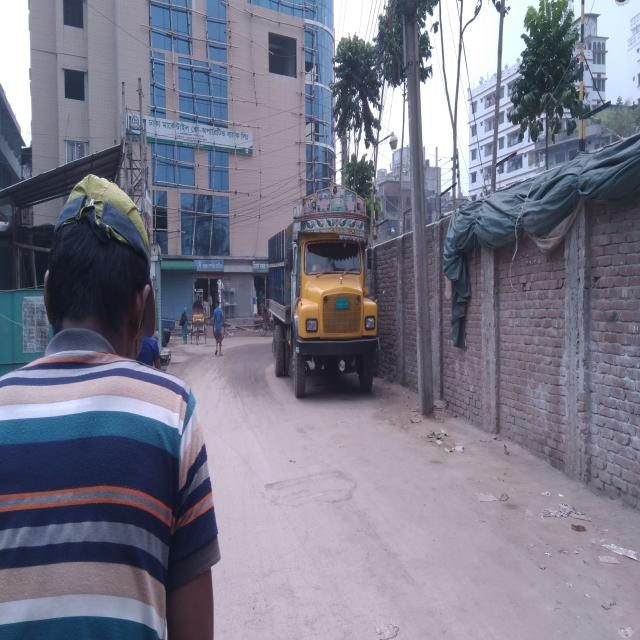truck: (264, 172, 384, 398)
